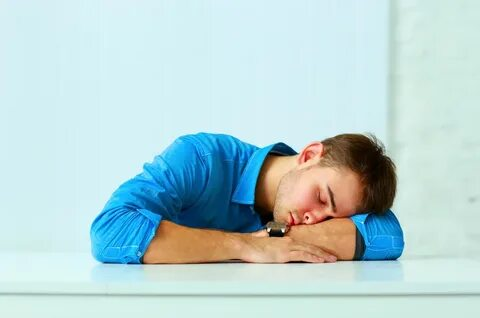sleep: (87, 124, 406, 265)
